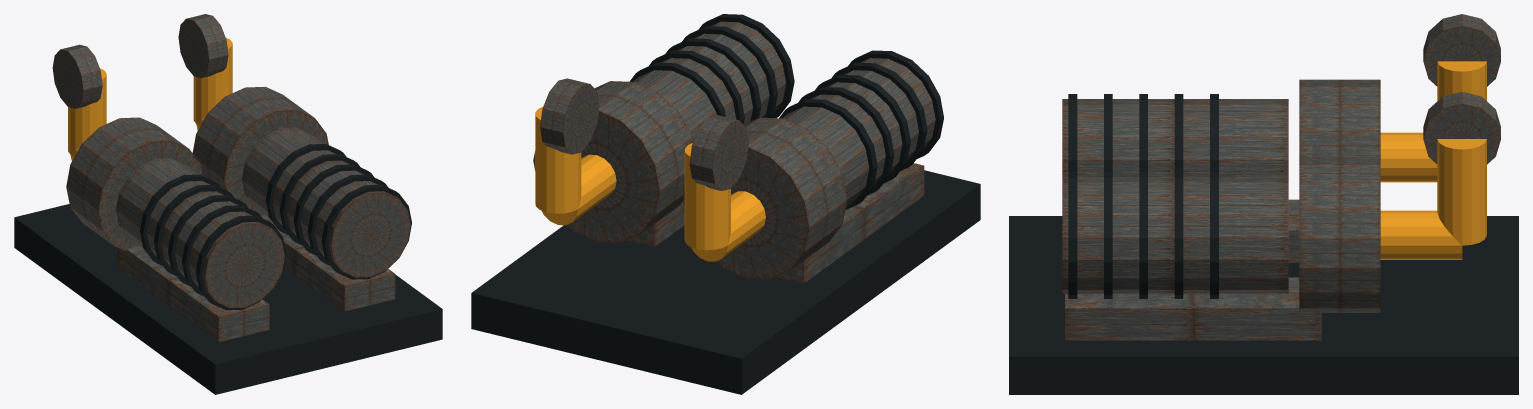
Rendered from PumpSkid.obj.
3 views of the same model, side by side, from view 1: azimuth 30°, elevation 25°; view 2: azimuth 150°, elevation 25°; view 3: azimuth 270°, elevation 25° (orthographic). The views are drawn at different scales.
Visible parts, largest first — view 1: PumpSkid; view 2: PumpSkid; view 3: PumpSkid.
Boxes of the visible parts, x1,y1,x2,y2 form: PumpSkid: [14, 14, 442, 394]; PumpSkid: [471, 14, 980, 394]; PumpSkid: [1009, 14, 1518, 394].
Size of the model in its own units: 1.92 by 1.62 by 2.88.
Materials: 4 (2 with a texture image).
